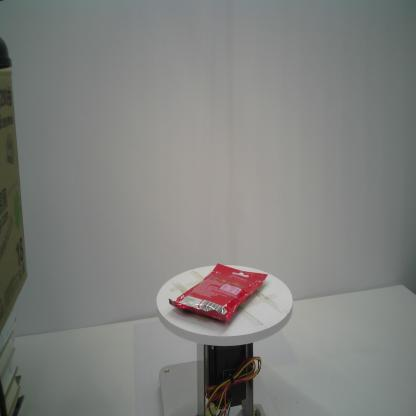Candy: (168, 262, 269, 323)
